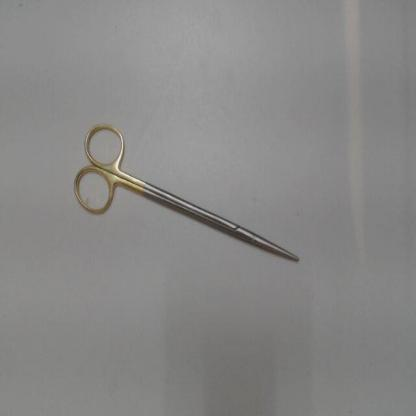7 Metzenbaum Scissors: (71, 119, 301, 265)
